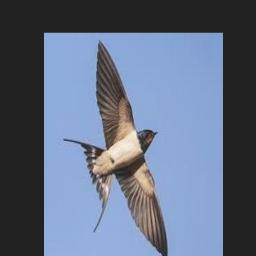Swallow: (63, 40, 168, 256)
